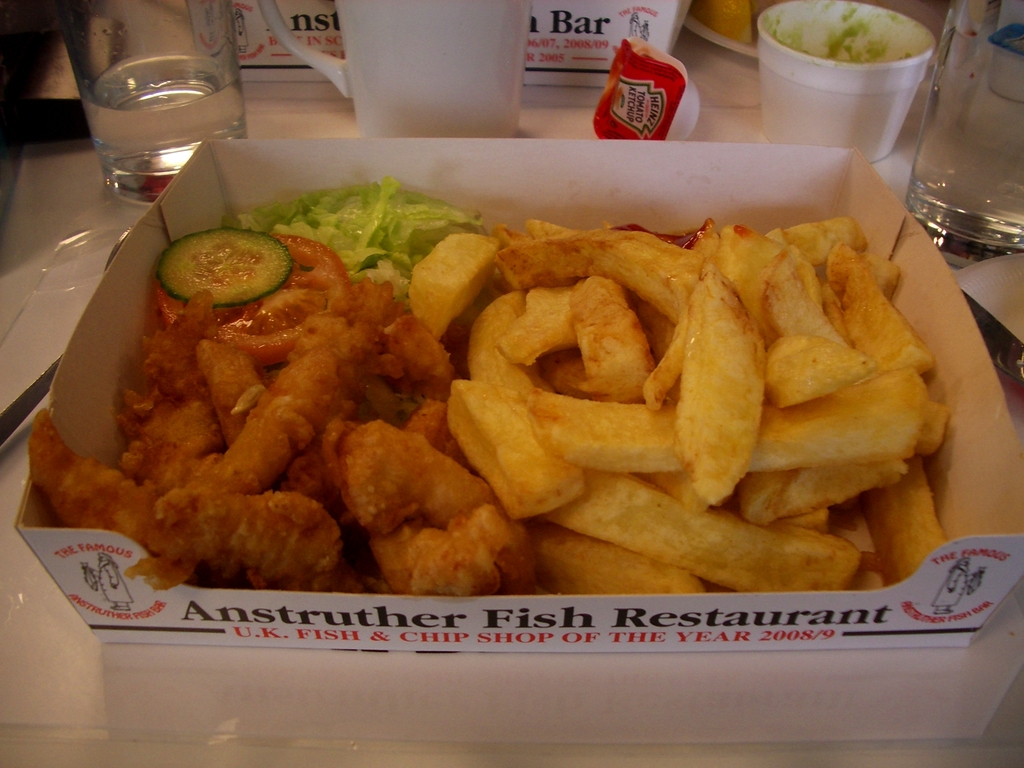French fries: (451, 172, 906, 579)
